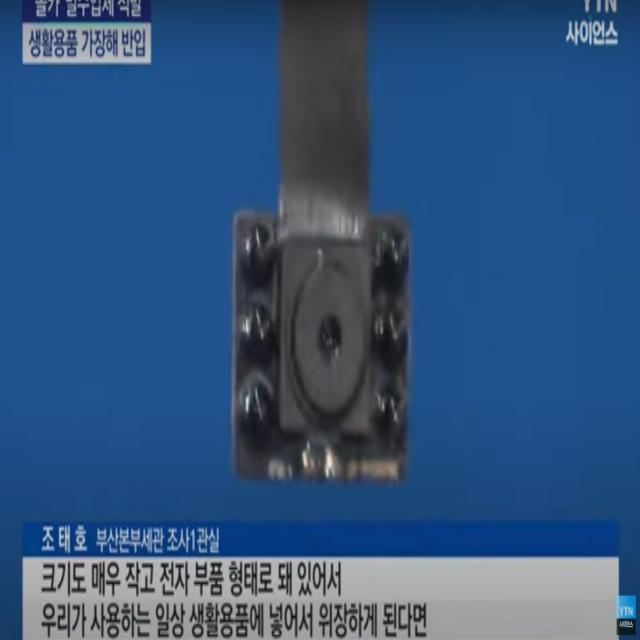hidden camera: (314, 306, 345, 373)
